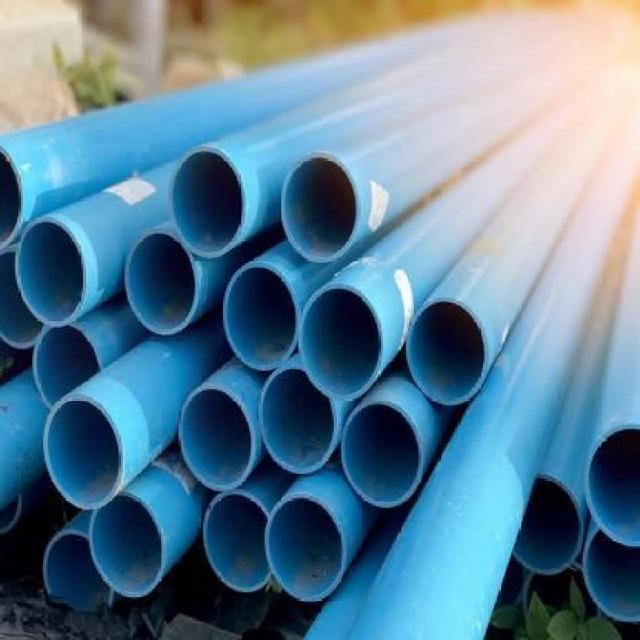pipe: (300, 283, 382, 402), (43, 394, 123, 508), (406, 297, 489, 406), (280, 152, 360, 265), (342, 399, 424, 508), (265, 496, 347, 602), (171, 145, 246, 258), (260, 366, 338, 474), (223, 263, 300, 371), (15, 217, 88, 330), (180, 386, 256, 491), (90, 492, 165, 597), (126, 230, 199, 336), (512, 473, 583, 576), (583, 423, 640, 548), (203, 491, 272, 593), (34, 325, 102, 410), (43, 531, 114, 610), (583, 526, 639, 622)
